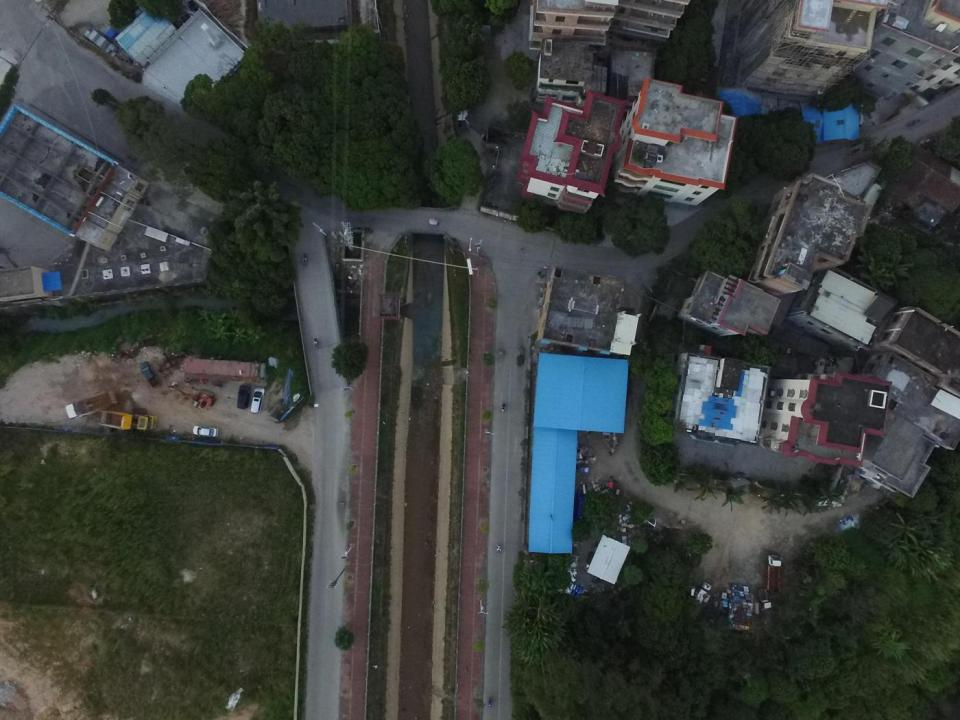car: (235, 383, 250, 410), (250, 387, 264, 413), (193, 425, 219, 438)
truck: (65, 390, 118, 420), (98, 410, 158, 431), (139, 361, 161, 388), (767, 554, 781, 595)
